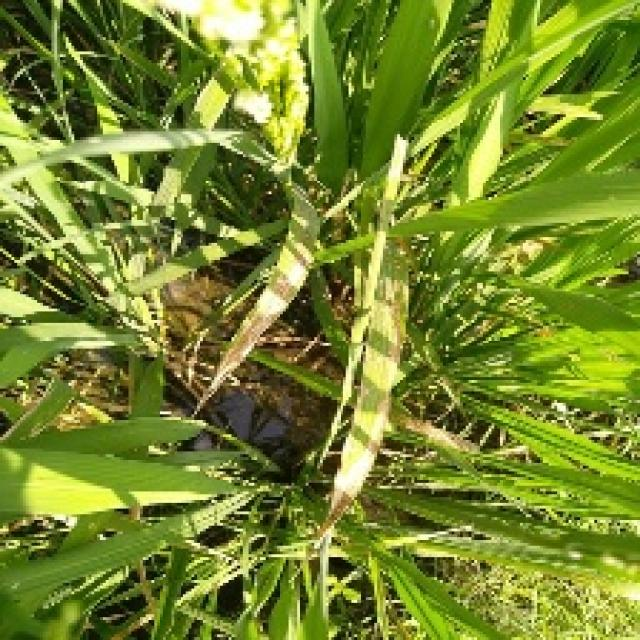Unhealthy: (193, 192, 321, 417), (316, 281, 408, 555)
